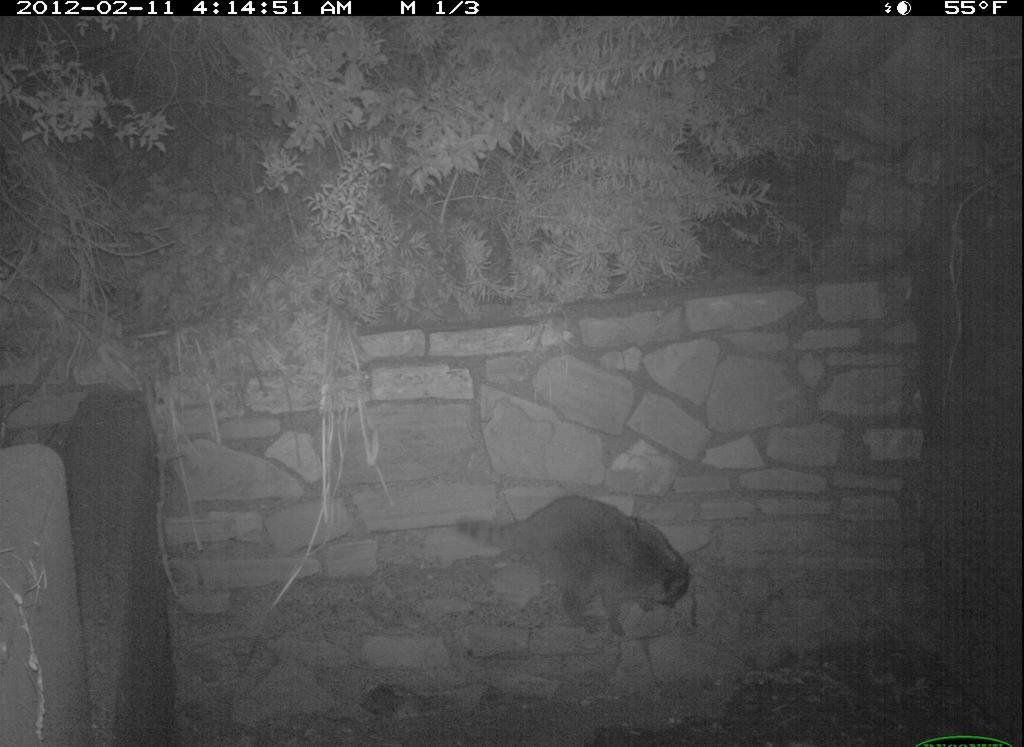raccoon: (444, 489, 704, 646)
